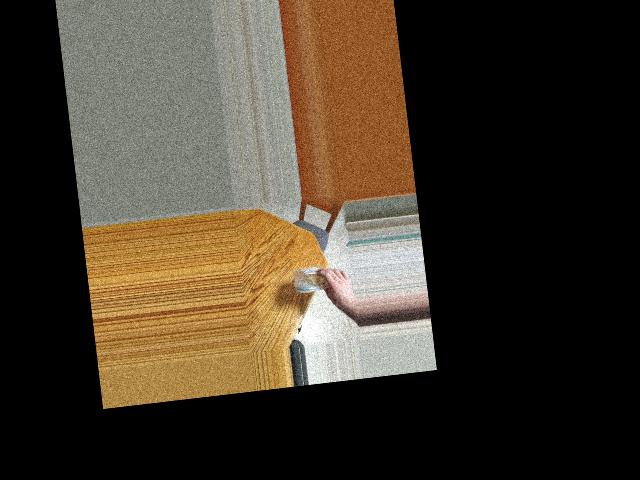cheese: (287, 257, 337, 303)
